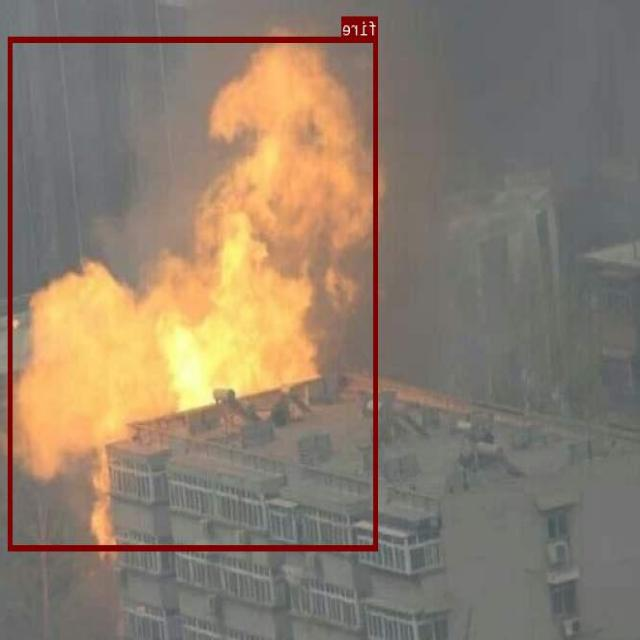fire: (9, 36, 379, 549)
